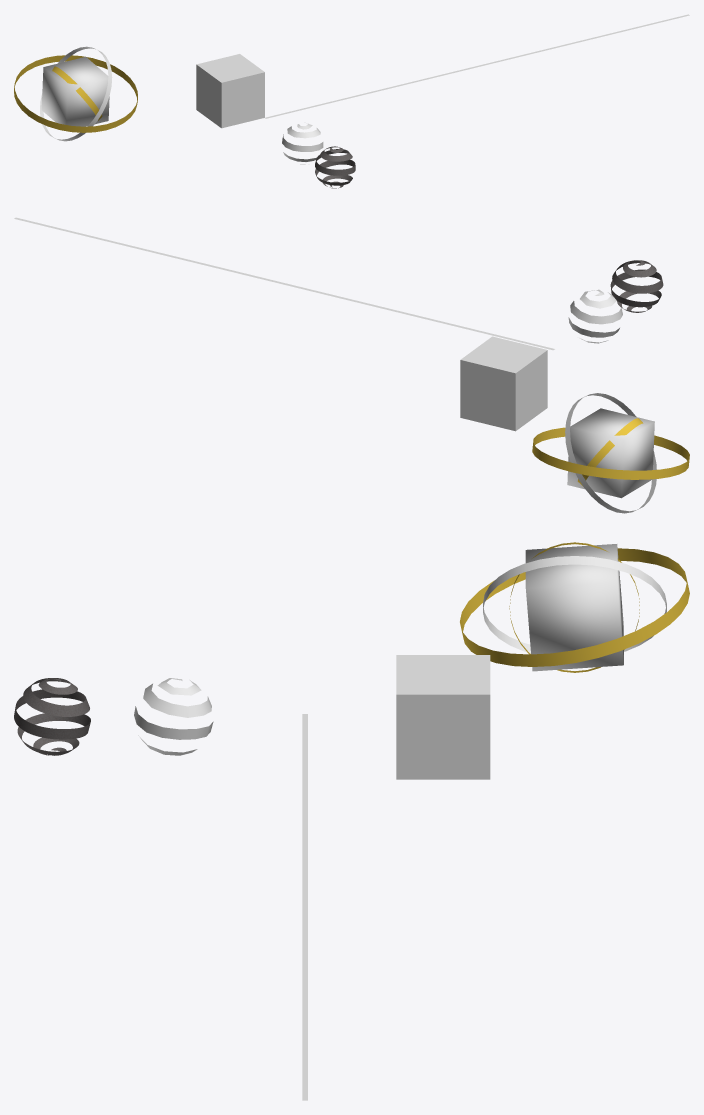
Rendered from ghofl.glb.
The picture shows the model from 3 angles, top to bottom: view 1: azimuth 30°, elevation 25°; view 2: azimuth 150°, elevation 25°; view 3: azimuth 270°, elevation 25°; orthographic projection. The views are drawn at different scales.
Visible parts, largest first — view 1: Cube, Cube.004, Cylinder, Plane.002, Plane, Plane.001, Cylinder.001, Cylinder.002; view 2: Cube, Cube.004, Cylinder, Plane.002, Plane, Plane.001, Cylinder.001, Cylinder.002; view 3: Cube, Cube.004, Cylinder, Plane.002, Plane.001, Plane, Cylinder.001.
Boxes of the visible parts, x1,y1,x2,y2 form: Cube: (196, 54, 264, 128); Cube.004: (41, 57, 109, 126); Cylinder: (14, 55, 137, 132); Plane.002: (315, 146, 355, 188); Plane: (265, 14, 689, 118); Plane.001: (282, 123, 323, 164); Cylinder.001: (40, 46, 112, 141); Cylinder.002: (52, 66, 102, 120); Cube: (460, 336, 547, 431); Cube.004: (567, 408, 654, 498); Cylinder: (532, 427, 689, 479); Plane.002: (610, 260, 663, 312); Plane: (14, 217, 554, 350); Plane.001: (568, 289, 622, 343); Cylinder.001: (565, 393, 656, 513); Cylinder.002: (577, 418, 643, 485); Cube: (396, 655, 490, 779); Cube.004: (525, 544, 623, 671); Cylinder: (460, 548, 689, 666); Plane.002: (14, 678, 90, 755); Plane.001: (134, 678, 213, 755); Plane: (302, 714, 307, 1100); Cylinder.001: (483, 556, 666, 653).
Size of the model in its own units: 27.31 by 3.37 by 14.4.
3 materials, 1 textured.
